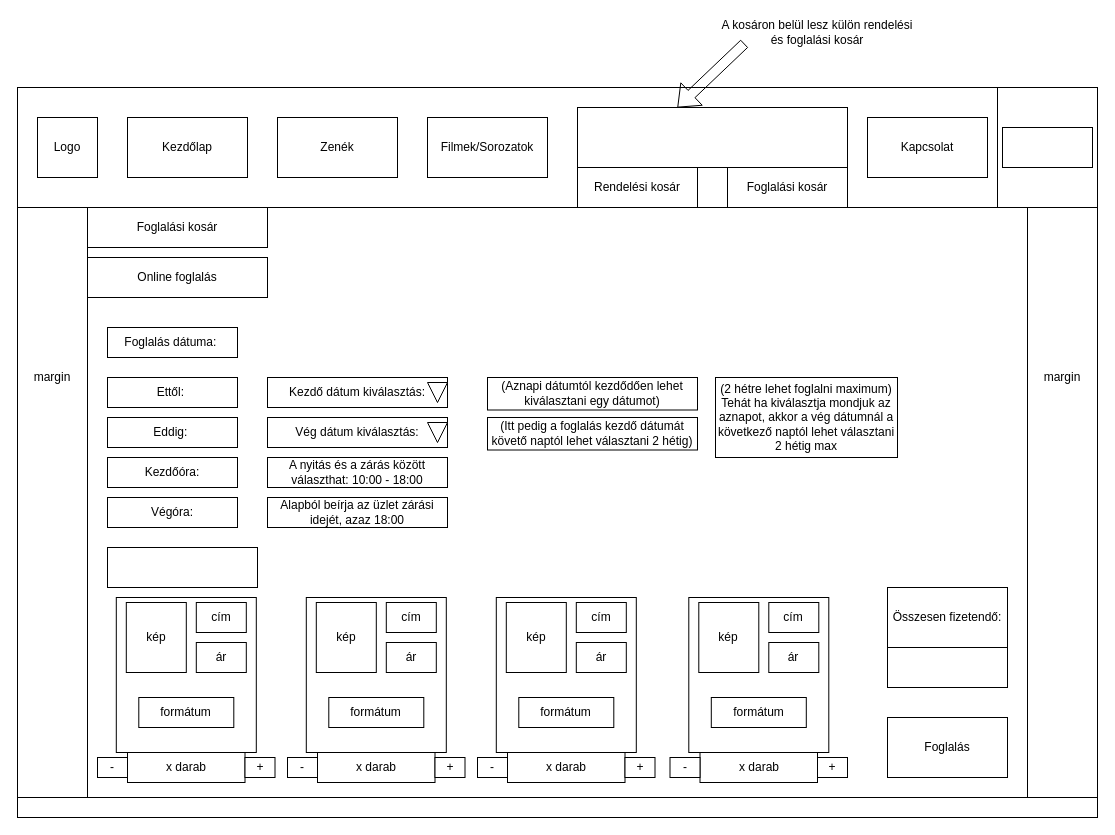
Image size: 1115x835. Some labels were removed from this diagram. Each missing label, with the box of its shape:
Fiók bej/reg: (1002, 126, 1092, 168)
Foglalni kívánt termékek:: (106, 546, 258, 588)
Footer: (16, 796, 1098, 818)
Kosár: (576, 106, 848, 168)
Y összeg: (886, 646, 1008, 688)
